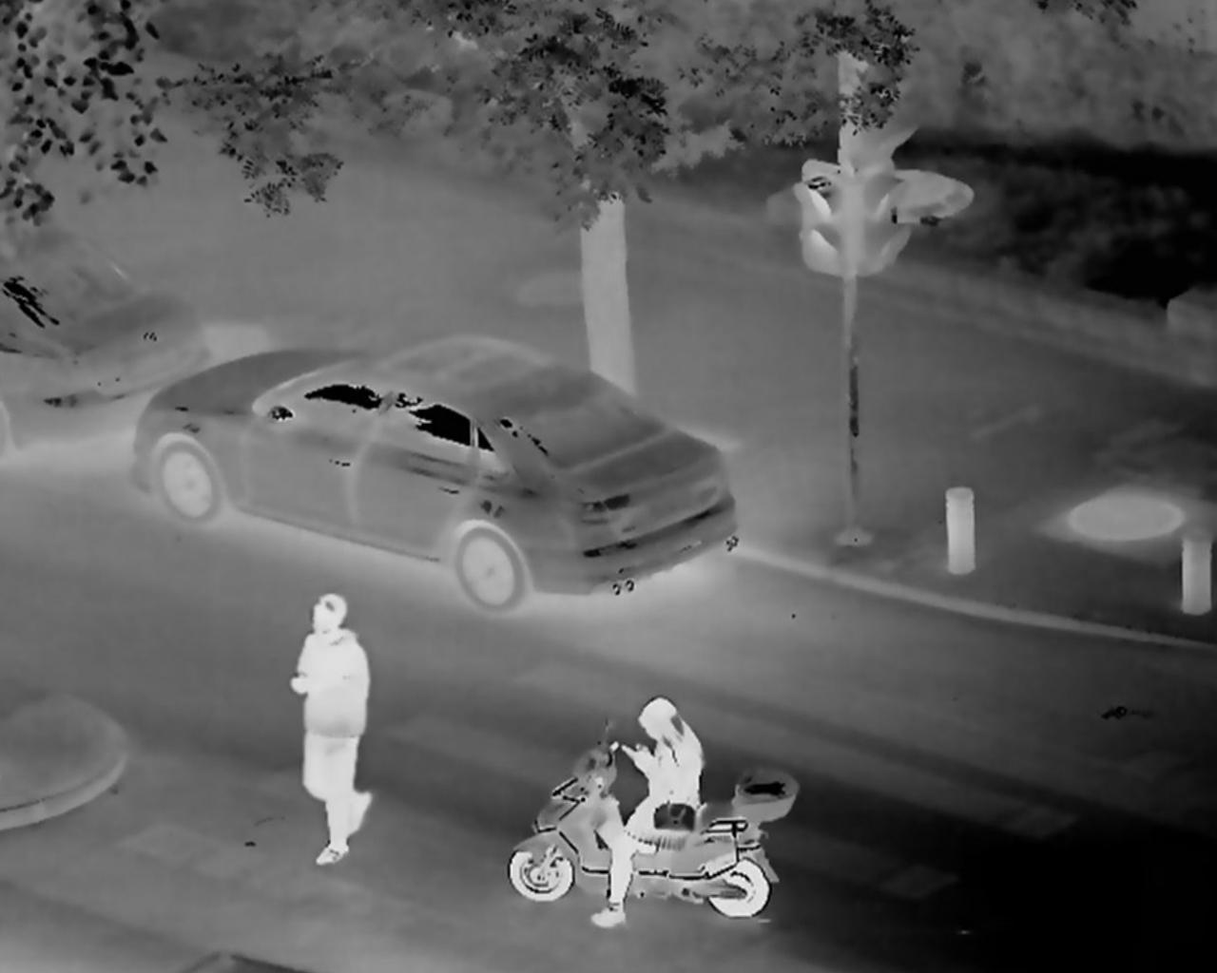person: (590, 691, 706, 927), (290, 594, 382, 876)
